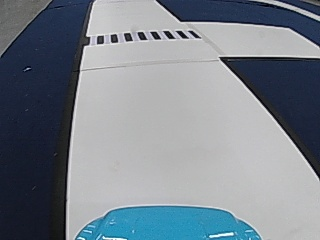CrossWalk: (86, 28, 201, 45)
